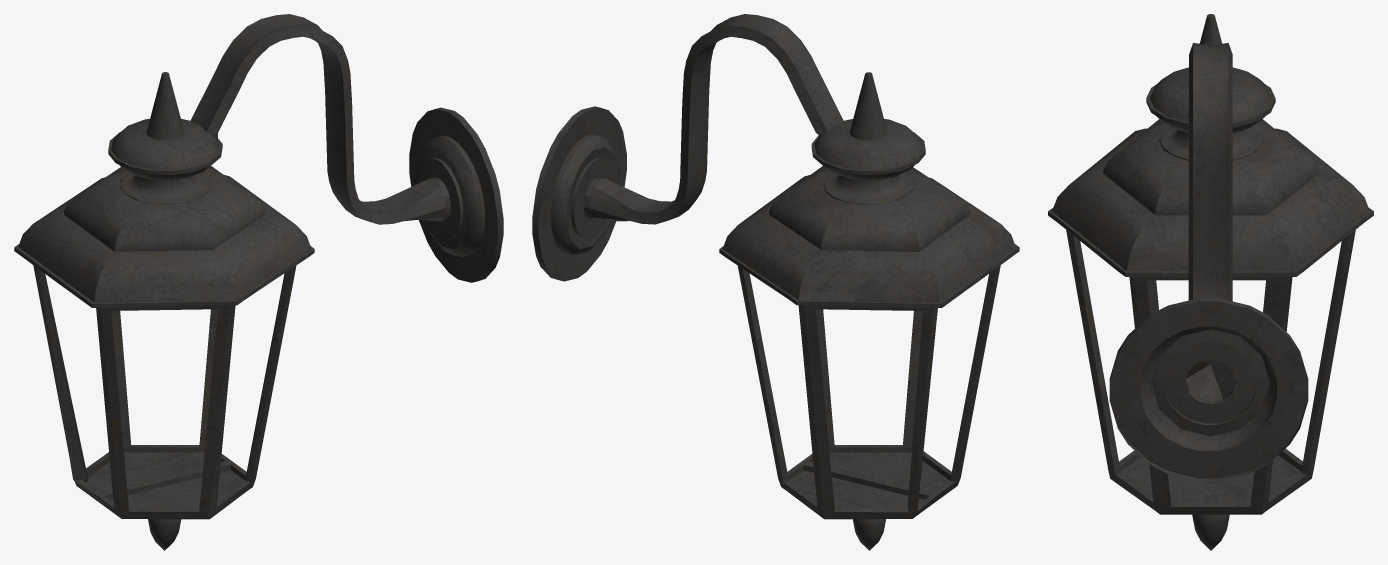
The model's file is old_black_sconce.glb.
The picture shows the model from 3 angles, left to right: view 1: azimuth 30°, elevation 25°; view 2: azimuth 150°, elevation 25°; view 3: azimuth 270°, elevation 25°; orthographic projection. The views are drawn at different scales.
Parts seen in each view (by area): view 1: Cylinder.006; view 2: Cylinder.006; view 3: Cylinder.006.
Boxes of the visible parts, x1,y1,x2,y2 form: Cylinder.006: [14, 14, 503, 550]; Cylinder.006: [532, 14, 1019, 550]; Cylinder.006: [1048, 14, 1373, 550].
Size of the model in its own units: 2.91 by 3.44 by 1.8.
Materials: 1 (1 with a texture image).
